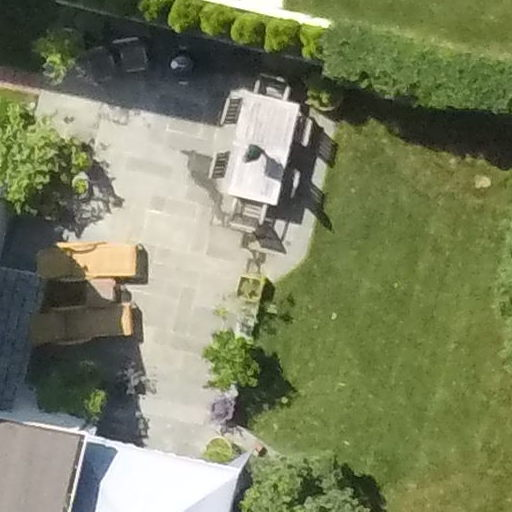chair: (16, 292, 149, 354), (25, 234, 151, 286), (223, 191, 279, 250), (251, 68, 294, 110), (199, 144, 233, 181), (215, 90, 247, 128), (292, 109, 321, 150), (281, 165, 308, 203)
container: (202, 432, 241, 464), (234, 270, 270, 302)
flower pot: (302, 73, 348, 114)
pot: (199, 429, 239, 473)
table: (212, 64, 296, 218)
